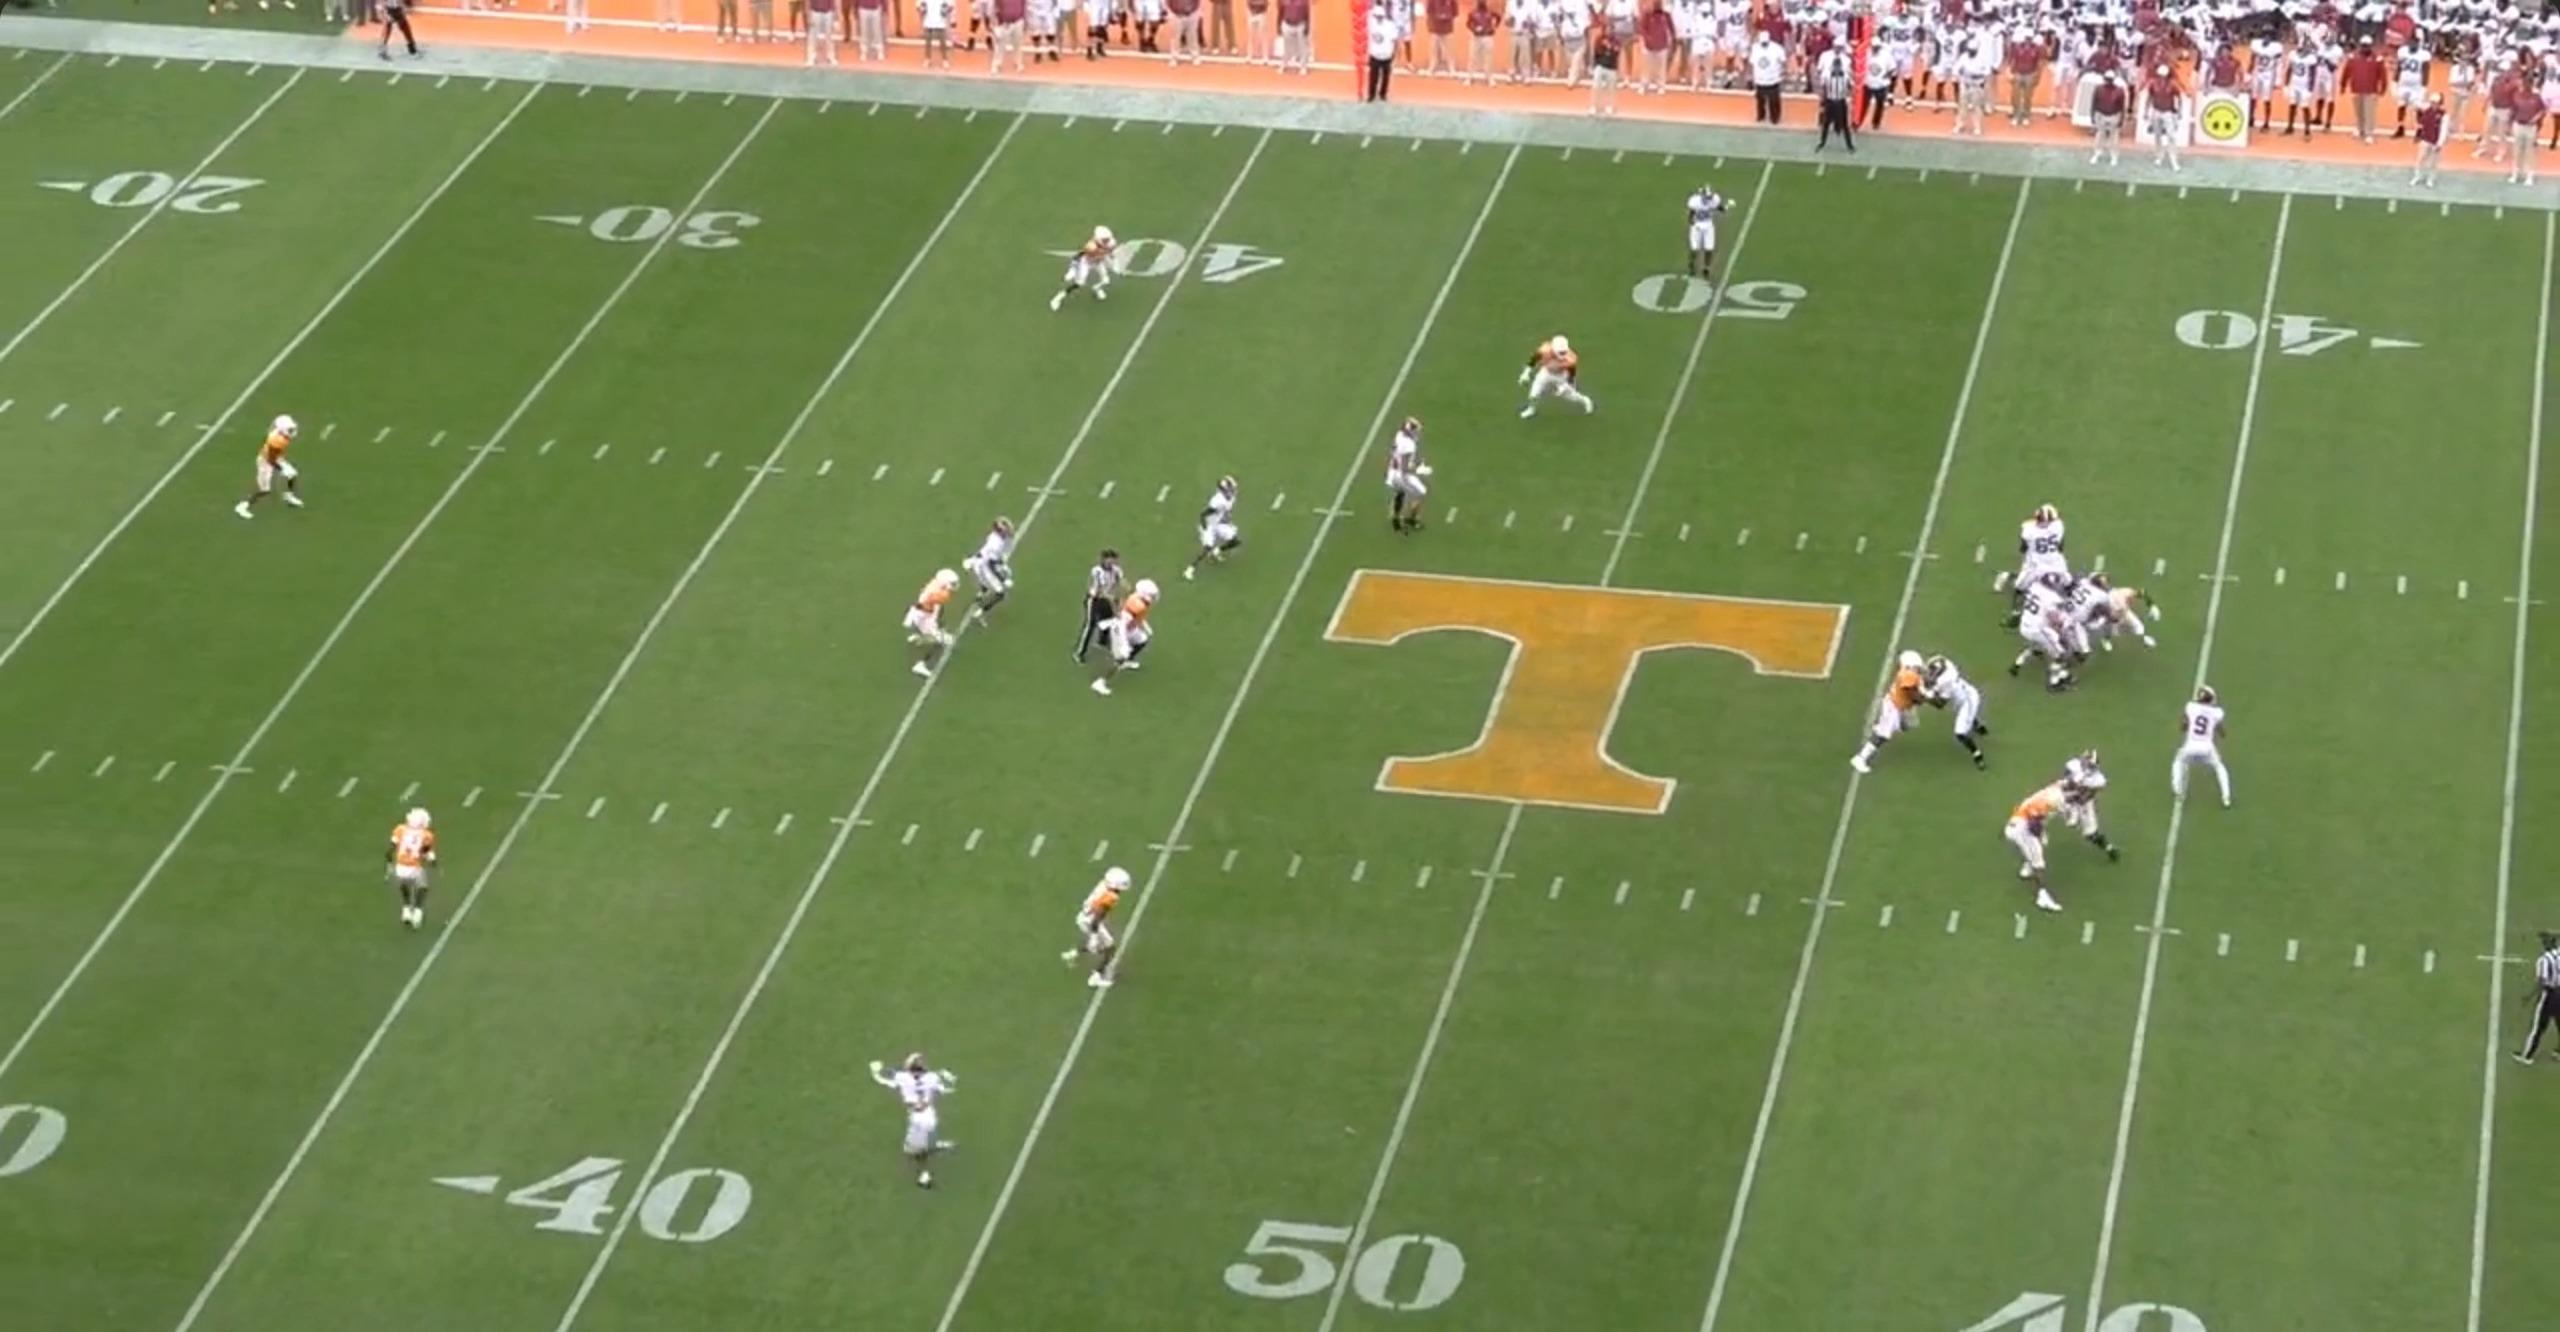player: (1849, 646, 1942, 778), (893, 1049, 970, 1196), (1995, 773, 2073, 917), (1068, 865, 1146, 1002), (1998, 506, 2082, 633), (1918, 651, 2002, 772), (2173, 688, 2246, 821), (234, 412, 315, 530), (1087, 579, 1159, 704), (2006, 569, 2077, 694), (2049, 750, 2119, 873), (382, 803, 442, 940), (1375, 419, 1441, 543), (1175, 479, 1247, 590), (1515, 326, 1600, 420), (899, 561, 964, 683), (957, 512, 1022, 629), (1058, 227, 1135, 321), (1992, 504, 2067, 595), (1675, 185, 1732, 298), (2060, 578, 2117, 689), (2097, 583, 2164, 661)
ref: (1081, 549, 1140, 681), (1799, 49, 1858, 166), (2519, 929, 2560, 1072), (359, 0, 422, 66)
